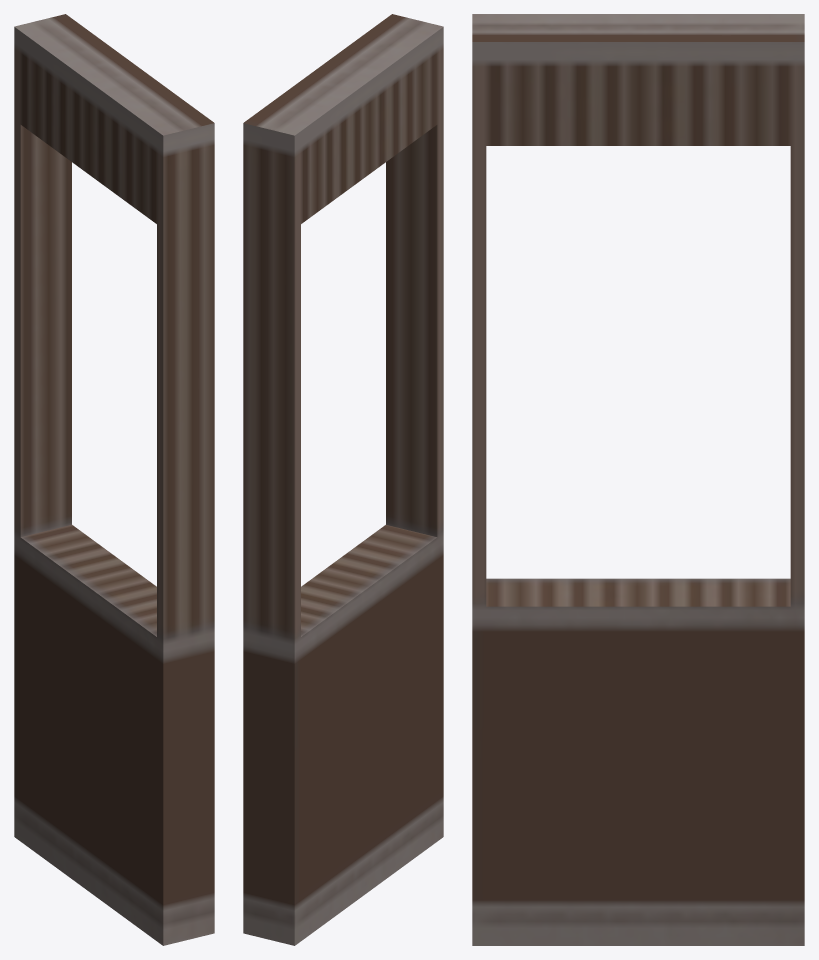
Rendered from WallSmall_Window.fbx.
3 renders of one model, left to right at view 1: azimuth 30°, elevation 25°; view 2: azimuth 150°, elevation 25°; view 3: azimuth 270°, elevation 25°, orthographic. The views are drawn at different scales.
Visible parts, largest first — view 1: WallSmall_Window; view 2: WallSmall_Window; view 3: WallSmall_Window.
Part boxes in pixels (x1=…): WallSmall_Window: x1=14, y1=14, x2=214, y2=945; WallSmall_Window: x1=243, y1=14, x2=443, y2=945; WallSmall_Window: x1=472, y1=14, x2=804, y2=945.
Bounding box in the file's own units: 100 × 20 × 300.
